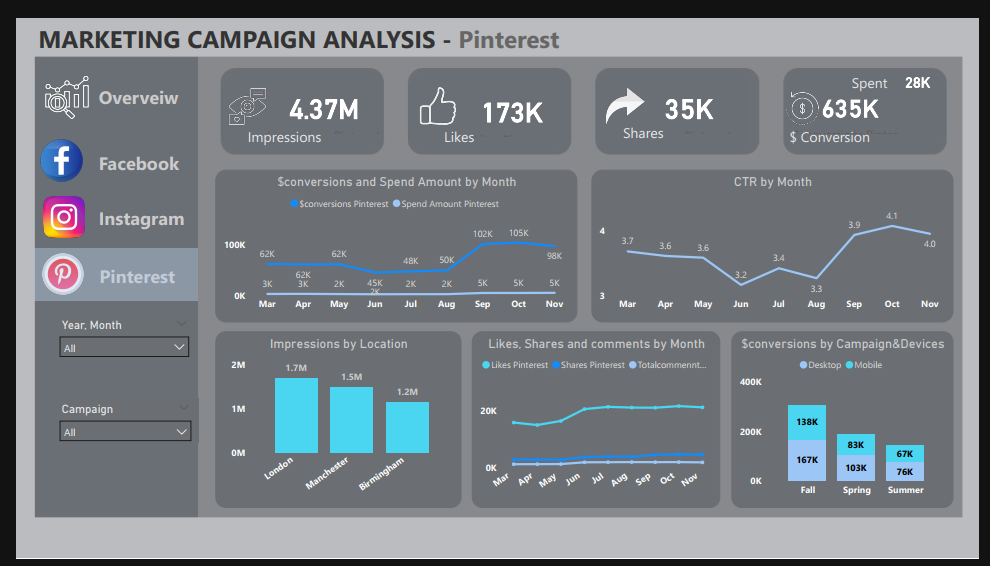

The dashboard page shown, as its layout file describes it:
{"tool":"powerbi","page":{"name":"Pinterest","canvas":[1280,720],"ordinal":3},"visuals":[{"type":"card","fields":{"Values":["Pinterest Calculation.Impressions Pinterest"]},"box":[327.7,98.4,163.1,60.2],"z":0},{"type":"card","fields":{"Values":["Pinterest Calculation.Likes Pinterest"]},"box":[577.5,102.9,163.1,60.2],"z":1000},{"type":"card","fields":{"Values":["Pinterest Calculation.Shares Pinterest"]},"box":[812.6,98.4,163.1,60.2],"z":2000},{"type":"card","fields":{"Values":["Pinterest Calculation.$conversions Pinterest"]},"box":[1027.1,98.4,163.1,60.2],"z":3000},{"type":"image","box":[277.5,87.8,60,60],"z":4000},{"type":"image","box":[531.4,87.4,60,60],"z":5000},{"type":"image","box":[780,87.4,60,60],"z":6000},{"type":"image","box":[1018.3,94,54.4,52.9],"z":7000},{"type":"lineChart","title":"$conversions and Spend Amount by Month ","fields":{"Category":["Calender.Month name"],"Y":["Pinterest Calculation.$conversions Pinterest","Pinterest Calculation.Spend Amount Pinterest"]},"box":[264.7,202.4,481.2,202.4],"z":8000},{"type":"lineChart","title":"CTR by Month","fields":{"Category":["Calender.Month name"],"Y":["Pinterest Calculation.CTR Pinterest"]},"box":[764.6,202.4,481.2,202.4],"z":9000},{"type":"image","box":[27.9,70.5,77.9,69.1],"z":10000},{"type":"image","box":[25,154.3,70.5,70.5],"z":12000},{"type":"textbox","box":[105.8,321.8,148.4,51.4],"z":15000},{"type":"image","box":[30.9,232.2,64.7,64.7],"z":16000},{"type":"image","box":[29.4,308.6,64.7,64.7],"z":17000},{"type":"shape","box":[25,306.7,216.7,70],"z":18000},{"type":"textbox","box":[24.9,0,805.1,60.7],"z":19000},{"type":"slicer","fields":{"Values":["data.Campaign"]},"box":[48.3,506.1,194.6,59.2],"z":20000},{"type":"slicer","fields":{"Values":["Calender.Date.Variation.Date Hierarchy.Year","Calender.Month name"]},"box":[48.5,393.8,191,60.2],"z":21000},{"type":"textbox","box":[302.7,139.6,167.5,36.7],"z":22000},{"type":"textbox","box":[564.2,139.6,167.5,36.7],"z":23000},{"type":"textbox","box":[802.3,135.2,167.5,36.7],"z":24000},{"type":"textbox","box":[1022.7,139.6,167.5,36.7],"z":25000},{"type":"card","fields":{"Values":["Pinterest Calculation.Spend Amount Pinterest"]},"box":[1116.7,55.8,163.1,60.2],"z":26000},{"type":"textbox","box":[1106.4,67.6,98.4,38.2],"z":27000},{"type":"clusteredColumnChart","title":"Impressions by Location","fields":{"Category":["data.City/Location"],"Y":["Pinterest Calculation.Impressions Pinterest"]},"box":[264.7,417.3,327,235.1],"z":28000},{"type":"lineChart","title":"Likes, Shares and comments  by Month ","fields":{"Category":["Calender.Month name"],"Y":["Pinterest Calculation.Likes Pinterest","Pinterest Calculation.Shares Pinterest","Pinterest Calculation.Totalcommennts Pinterest"]},"box":[605.7,417.3,330.1,235.1],"z":29000},{"type":"columnChart","title":"$conversions by Campaign&Devices","fields":{"Category":["data.Campaign"],"Series":["data.Device"],"Y":["Pinterest Calculation.$conversions Pinterest"]},"box":[951.4,417.3,294.3,235.1],"z":30000},{"type":"actionButton","box":[105.8,158.7,146.9,66.1],"z":30001},{"type":"actionButton","box":[105.8,232.2,146.9,66.1],"z":30002},{"type":"actionButton","box":[105.8,72,146.9,66.1],"z":30003}]}

Visuals, with their boxes in screenshot pixels (x1, y1, x2, y2), scaled from the page's 1280x720 canvas onto the 990x566 screenshot:
card - Pinterest Calculation.Impressions Pinterest: 253,77,380,125
card - Pinterest Calculation.Likes Pinterest: 447,81,573,128
card - Pinterest Calculation.Shares Pinterest: 628,77,755,125
card - Pinterest Calculation.$conversions Pinterest: 794,77,921,125
image: 215,69,261,116
image: 411,69,457,116
image: 603,69,650,116
image: 788,74,830,115
"$conversions and Spend Amount by Month " lineChart: 205,159,577,318
"CTR by Month" lineChart: 591,159,964,318
image: 22,55,82,110
image: 19,121,74,177
textbox: 82,253,197,293
image: 24,183,74,233
image: 23,243,73,293
shape: 19,241,187,296
textbox: 19,0,642,48
slicer - data.Campaign: 37,398,188,444
slicer - Calender.Date.Variation.Date Hierarchy.Year x Calender.Month name: 38,310,185,357
textbox: 234,110,364,139
textbox: 436,110,566,139
textbox: 621,106,750,135
textbox: 791,110,921,139
card - Pinterest Calculation.Spend Amount Pinterest: 864,44,989,91
textbox: 856,53,932,83
"Impressions by Location" clusteredColumnChart: 205,328,458,513
"Likes, Shares and comments  by Month " lineChart: 468,328,724,513
"$conversions by Campaign&Devices" columnChart: 736,328,963,513
actionButton: 82,125,195,177
actionButton: 82,183,195,234
actionButton: 82,57,195,109
